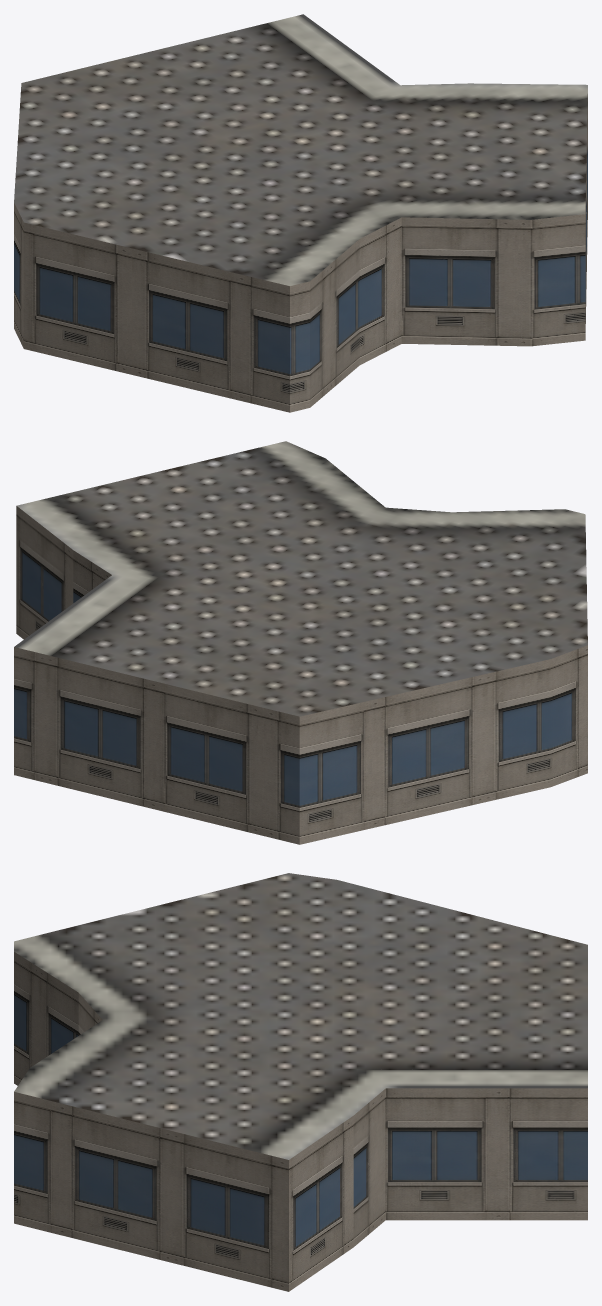
Rendered from building_light_a_53.glb.
3 renders of one model, top to bottom at view 1: azimuth 30°, elevation 25°; view 2: azimuth 150°, elevation 25°; view 3: azimuth 270°, elevation 25°, orthographic. The views are drawn at different scales.
Visible parts, largest first — view 1: buildings/saxarba/building_light/building_light_a_53; view 2: buildings/saxarba/building_light/building_light_a_53; view 3: buildings/saxarba/building_light/building_light_a_53.
Part boxes in pixels (<box>): buildings/saxarba/building_light/building_light_a_53: <box>14,14,587,412</box>; buildings/saxarba/building_light/building_light_a_53: <box>14,441,587,844</box>; buildings/saxarba/building_light/building_light_a_53: <box>14,873,587,1291</box>.
Bounding box in the file's own units: 84 × 18 × 71.
